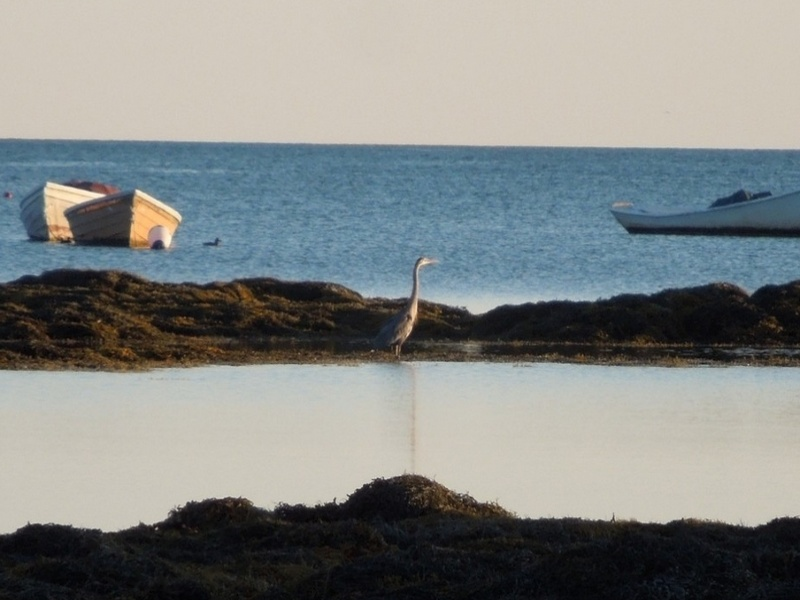heron: (371, 250, 442, 363)
